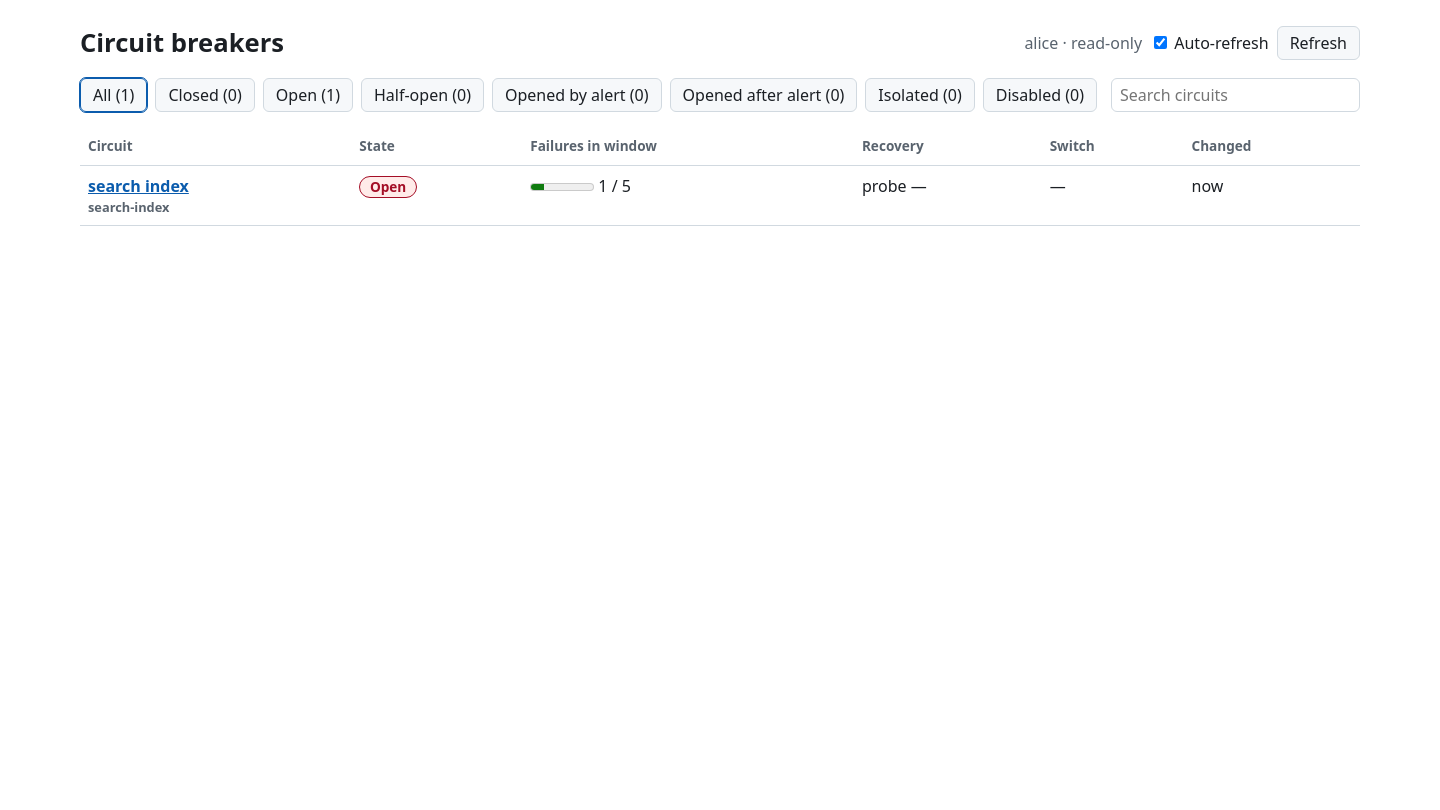
Scenario: the circuit console › shows why a circuit is unhealthy, and no alert section without linked rules
Click the button "search index".
click(138, 186)  # box [88, 174, 189, 198]
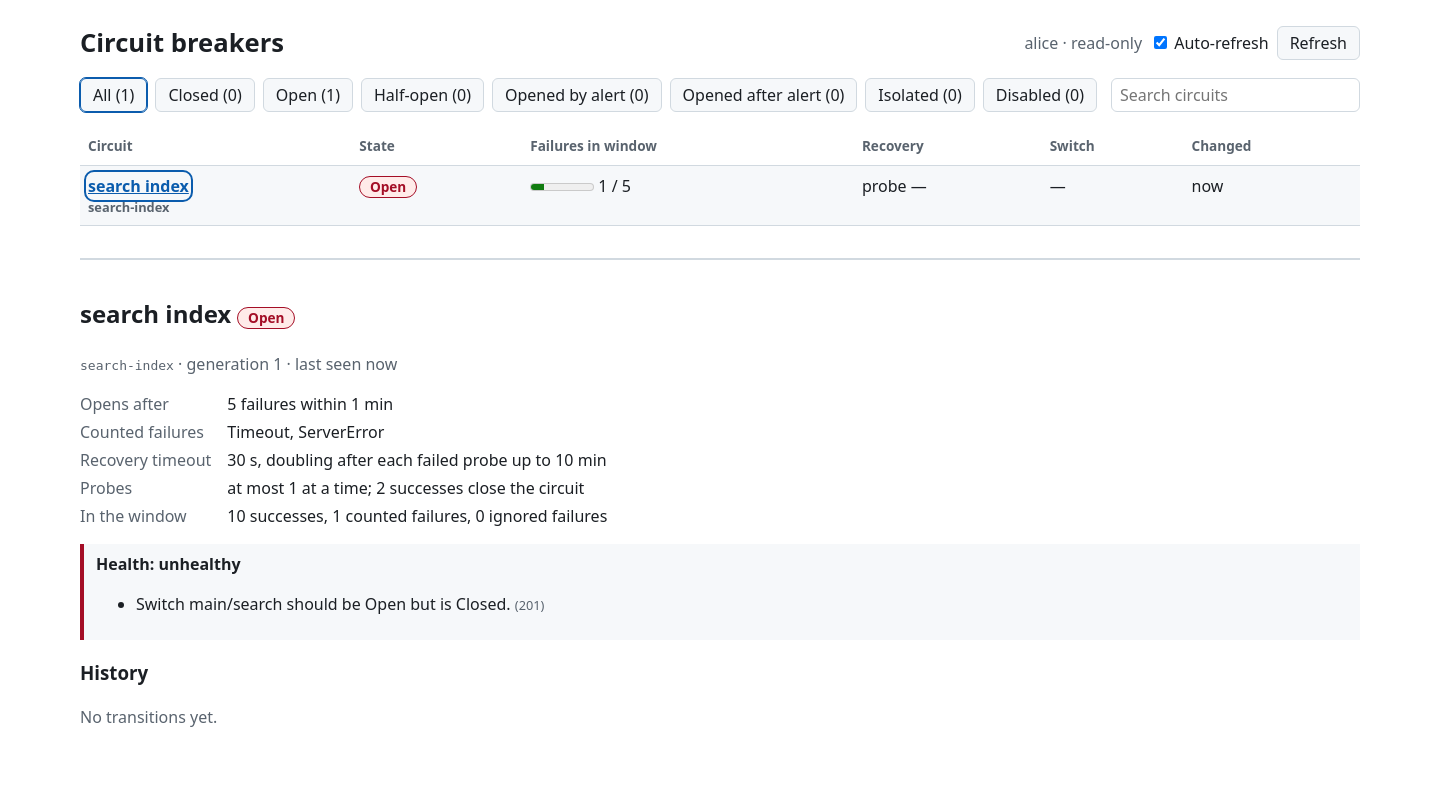
expect the text "Health: unhealthy" is shown: met, box [96, 553, 240, 575]
expect the list item "Switch main/search should be Open but is Closed. (201)" is shown: met, box [136, 593, 544, 615]
